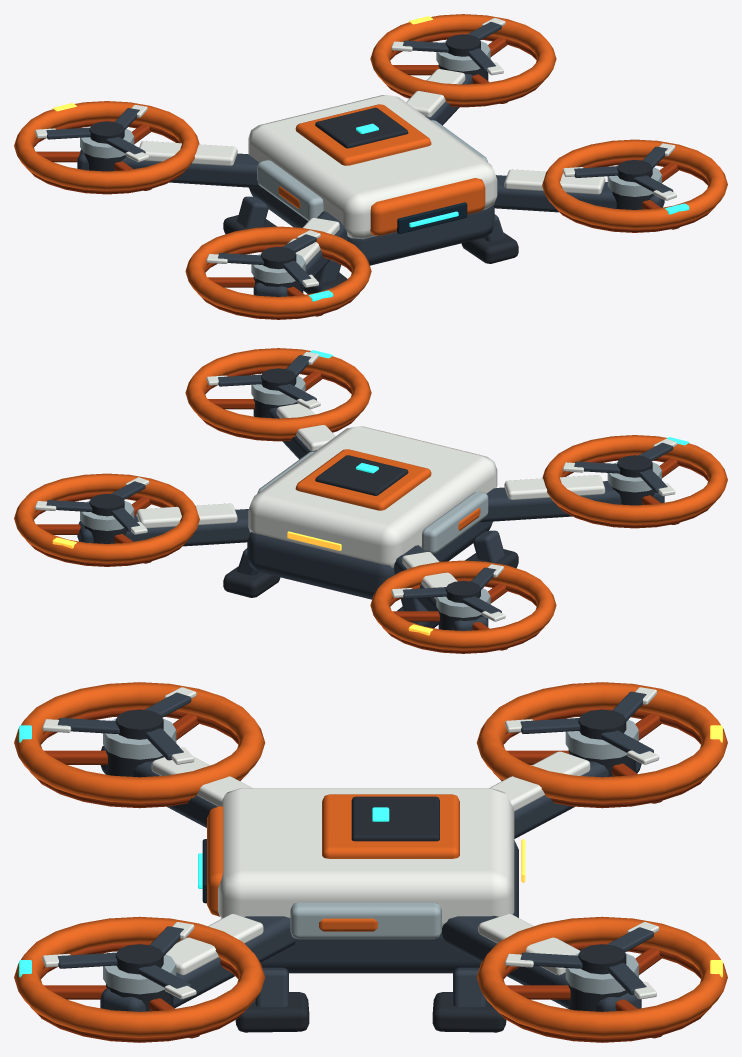
File: civil-survey-drone.glb
3 views of the same model, one above another, from view 1: azimuth 30°, elevation 25°; view 2: azimuth 150°, elevation 25°; view 3: azimuth 270°, elevation 25° (orthographic). The views are drawn at different scales.
Visible parts, largest first — view 1: White_Upper_Shell, Safety_Duct_RL, Safety_Duct_FR, Safety_Duct_FL, Safety_Duct_RR, Lower_Shell, Safety_Nose, Utility_Saddle, Composite_Arm_RL, Power_Panel, Composite_Arm_FR, Side_Rail_-0.263 (+20 smaller); view 2: White_Upper_Shell, Safety_Duct_FL, Safety_Duct_RR, Safety_Duct_FR, Safety_Duct_RL, Lower_Shell, Utility_Saddle, Composite_Arm_FL, Power_Panel, Composite_Arm_RR, Side_Rail_-0.263, Arm_Deflector_RR (+18 smaller); view 3: White_Upper_Shell, Safety_Duct_RL, Safety_Duct_FR, Safety_Duct_RR, Safety_Duct_FL, Lower_Shell, Utility_Saddle, Side_Rail_0.263, Power_Panel, Composite_Arm_FR, Composite_Arm_RR, Arm_Deflector_FR (+38 smaller).
Boxes of the visible parts, <box> form: White_Upper_Shell: <box>248,95,497,239</box>; Safety_Duct_RL: <box>14,101,199,190</box>; Safety_Duct_FR: <box>542,139,727,229</box>; Safety_Duct_FL: <box>185,226,371,316</box>; Safety_Duct_RR: <box>370,14,556,103</box>; Lower_Shell: <box>249,187,494,265</box>; Safety_Nose: <box>370,178,485,235</box>; Utility_Saddle: <box>295,104,431,165</box>; Composite_Arm_RL: <box>77,149,262,188</box>; Power_Panel: <box>315,107,408,148</box>; Composite_Arm_FR: <box>493,175,664,212</box>; Side_Rail_-0.263: <box>257,160,323,221</box>; White_Upper_Shell: <box>248,426,497,567</box>; Safety_Duct_FL: <box>542,435,727,524</box>; Safety_Duct_RR: <box>14,473,199,563</box>; Safety_Duct_FR: <box>185,348,371,437</box>; Safety_Duct_RL: <box>370,560,556,650</box>; Lower_Shell: <box>247,521,492,599</box>; Utility_Saddle: <box>295,449,431,510</box>; Composite_Arm_FL: <box>479,481,664,522</box>; Power_Panel: <box>315,455,408,495</box>; Composite_Arm_RR: <box>77,509,250,546</box>; Side_Rail_-0.263: <box>421,491,488,553</box>; Arm_Deflector_RR: <box>136,503,237,528</box>; White_Upper_Shell: <box>218,788,514,927</box>; Safety_Duct_RL: <box>476,682,727,803</box>; Safety_Duct_FR: <box>14,916,265,1037</box>; Safety_Duct_RR: <box>476,916,727,1037</box>; Safety_Duct_FL: <box>14,682,265,803</box>; Lower_Shell: <box>260,840,518,973</box>; Utility_Saddle: <box>322,794,459,858</box>; Side_Rail_0.263: <box>290,902,441,939</box>; Power_Panel: <box>351,796,439,841</box>; Composite_Arm_FR: <box>100,916,297,1011</box>; Composite_Arm_RR: <box>441,915,641,1011</box>; Arm_Deflector_FR: <box>166,914,263,975</box>.
Size of the model in its own units: 1.66 by 0.3565 by 1.47.
